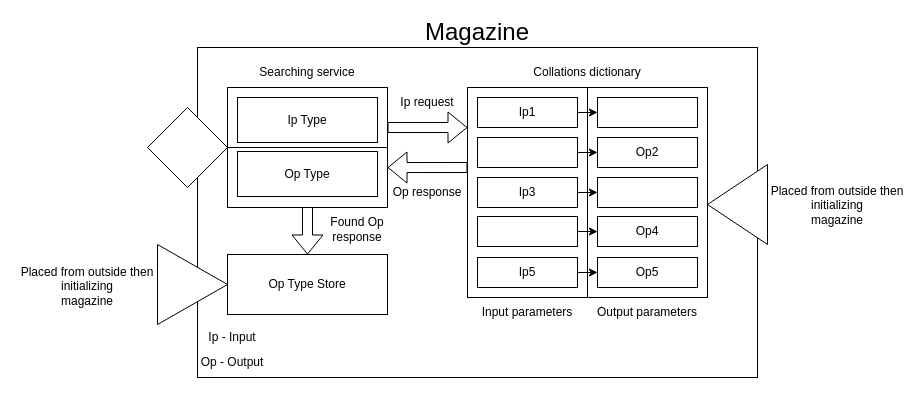
The diagram is 924 pixels wide and 395 high, and some of its shapes have lost their labels. Each missing label, with the box of its shape:
Ip2: (476, 136, 578, 168)
Ip4: (476, 216, 578, 246)
Op1: (596, 96, 698, 128)
Op3: (596, 176, 698, 208)
Re-used Service: (146, 106, 228, 188)
